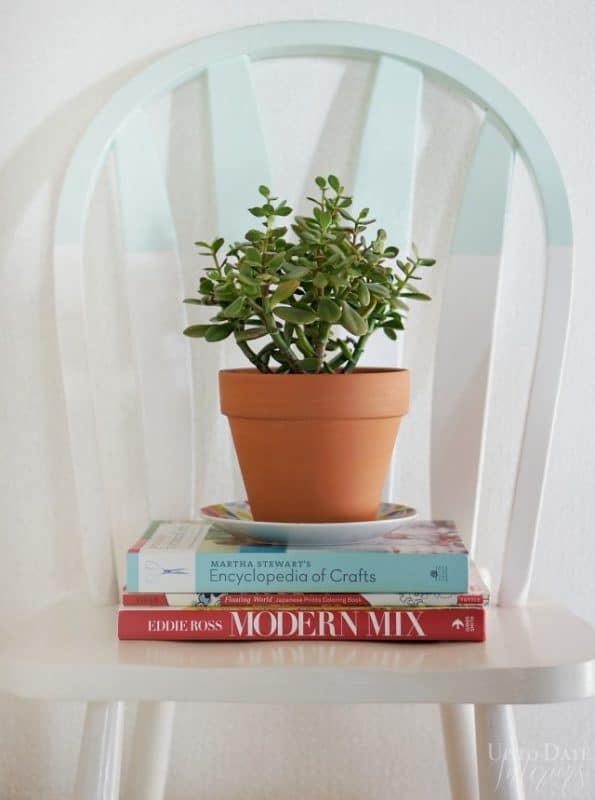not a gesture sign: (221, 368, 407, 522)
